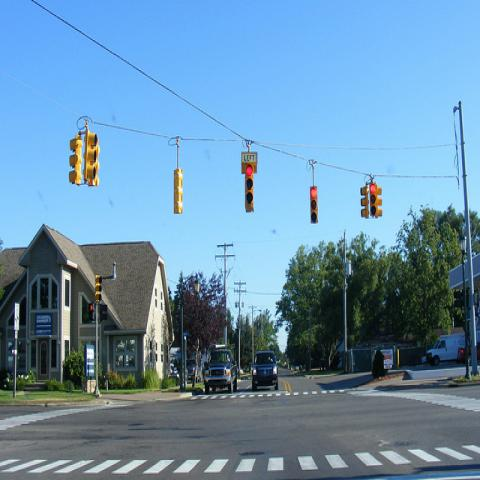car: (252, 350, 278, 390), (455, 341, 479, 365), (186, 358, 196, 378)
truck: (205, 344, 239, 394), (426, 333, 465, 367)
